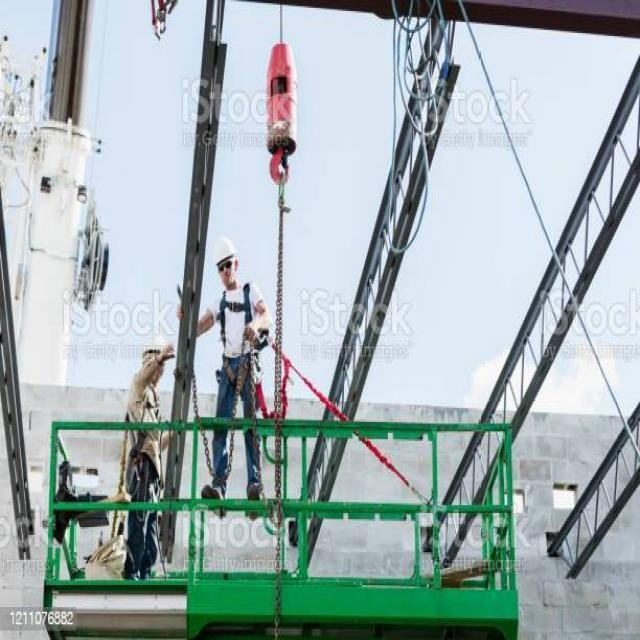Arnes_seguridad: (212, 280, 268, 400)
